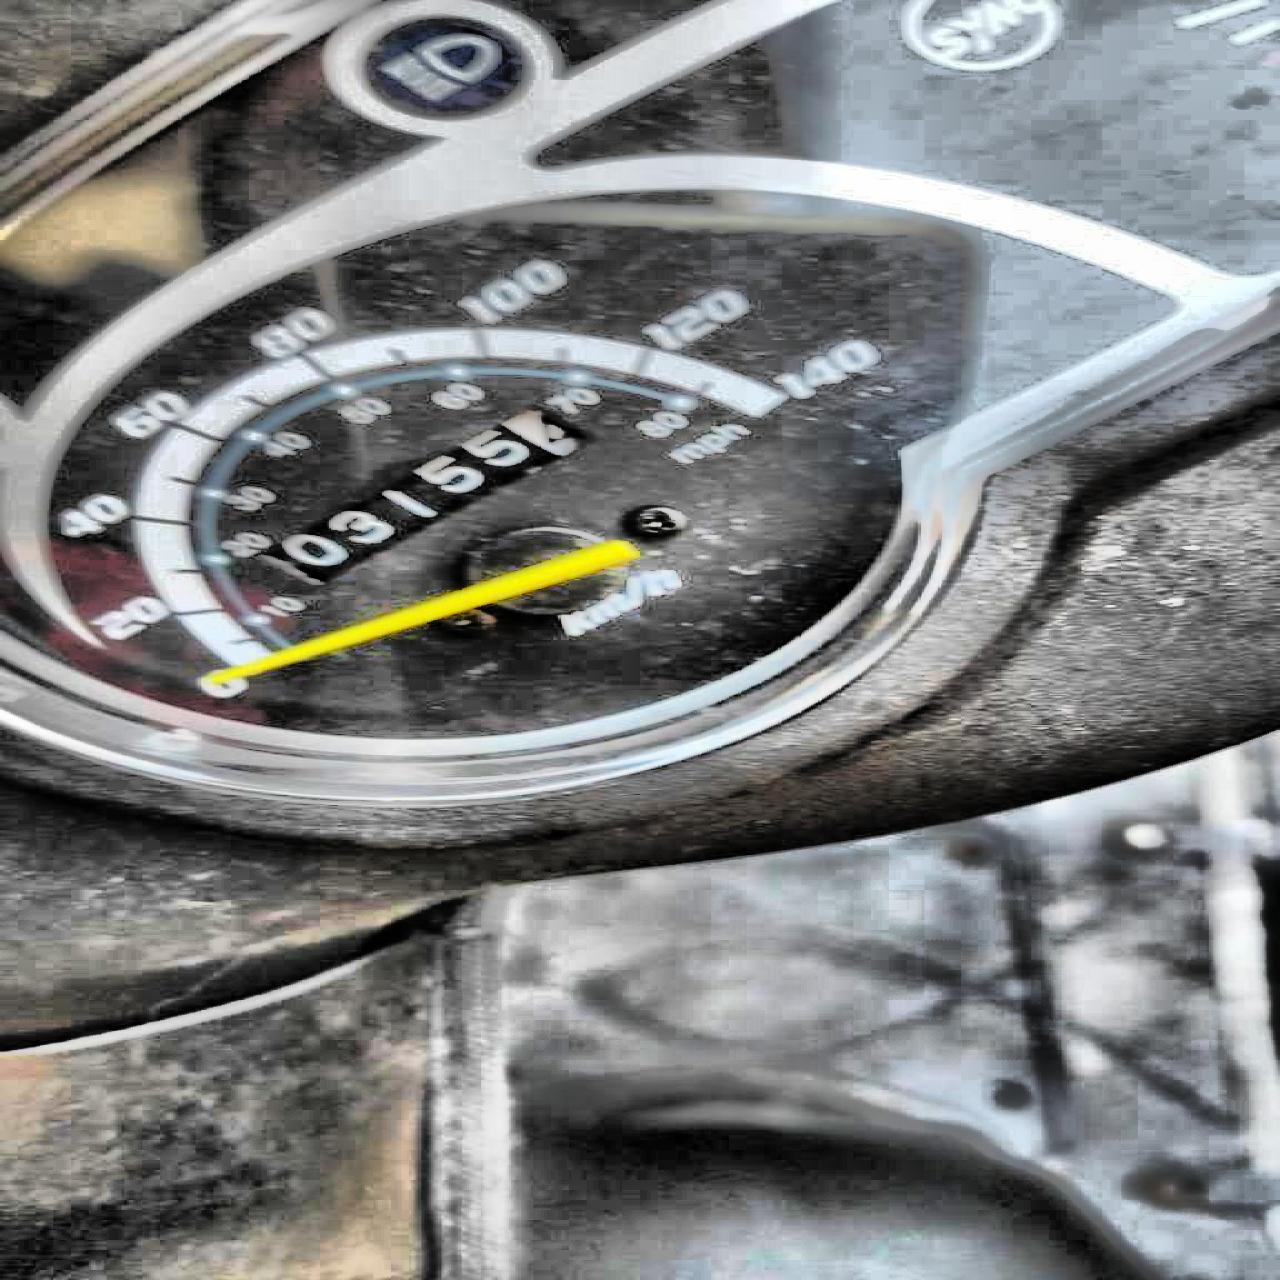0: (275, 532, 349, 566), (238, 483, 280, 503), (271, 430, 311, 448), (354, 397, 395, 414), (233, 530, 268, 547)
1: (372, 486, 447, 523)
3: (318, 510, 399, 543)
4: (533, 414, 588, 448), (260, 440, 298, 456)
5: (407, 452, 489, 492), (456, 430, 531, 469), (334, 404, 375, 425)
7: (546, 395, 578, 413)
odometer: (245, 402, 593, 588)
